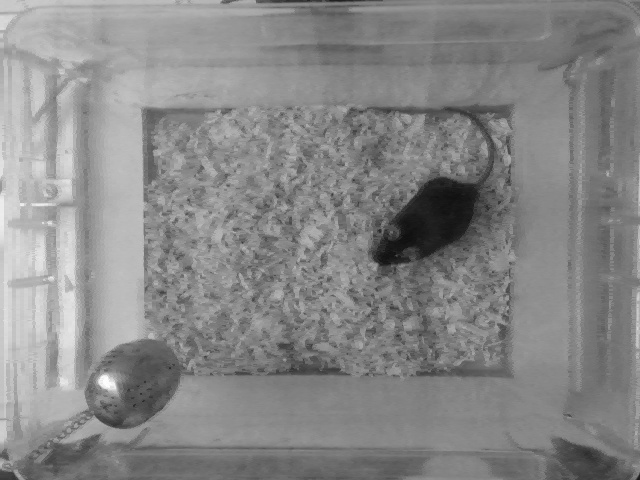mice: (359, 106, 500, 272)
